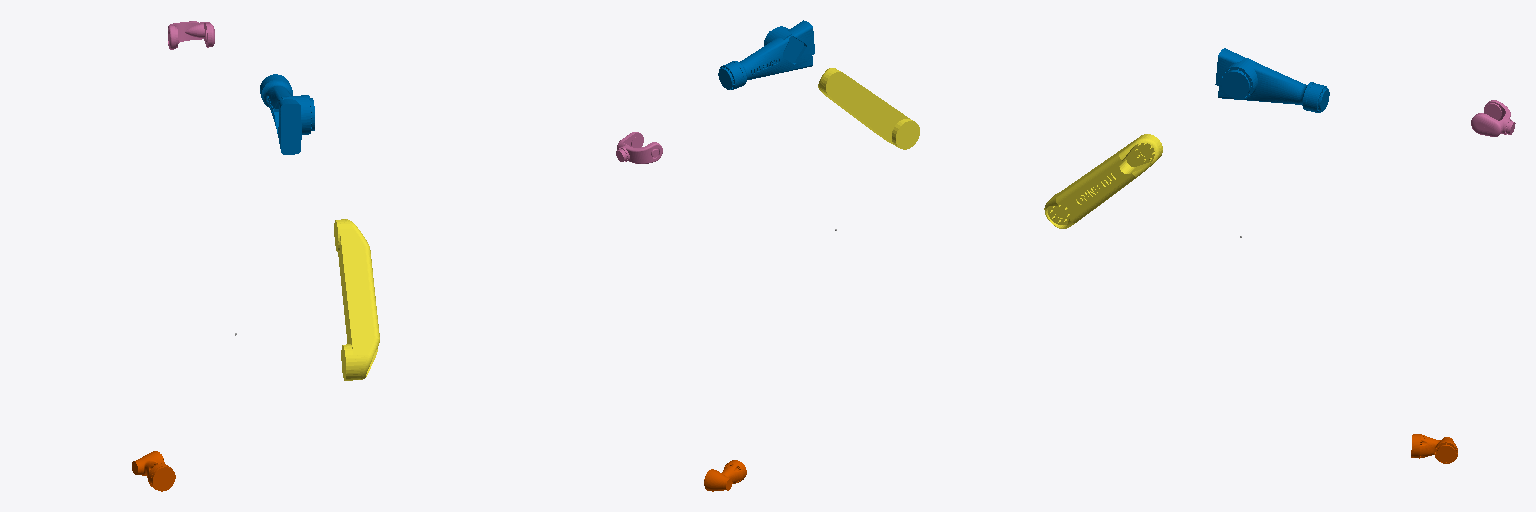
robot.urdf — phobos_robot_arm:
<?xml version="1.0"?>
<!-- =================================================================================== -->
<!-- |    This document was autogenerated by xacro from
[local-path]/rk_ws/install/rk_demo/share/rk_demo/urdf/robot_arm.urdf.xacro | -->
<!-- |    EDITING THIS FILE BY HAND IS NOT RECOMMENDED                                 | -->
<!-- =================================================================================== -->
<robot name="phobos_robot_arm" version="1.0">
    <link name="world" />
    <link name="base_link">
        <visual>
            <origin rpy="0 0 0" xyz="0 0 0" />
            <geometry>
                <mesh filename="package://rk_demo/meshes/1_base.STL" scale="1 1 1" />
            </geometry>
        </visual>
        <collision>
            <origin rpy="0 0 0" xyz="0 0 0" />
            <geometry>
                <mesh filename="package://rk_demo/meshes/1_base.STL" scale="1 1 1" />
            </geometry>
        </collision>
        <inertial>
            <mass value="2.0" />
            <origin rpy="0 0 0" xyz="0 0 0" />
            <inertia ixx="0.1" ixy="0" ixz="0" iyy="0.1" iyz="0" izz="0.1" />
        </inertial>
    </link>
    <joint name="world_to_base" type="fixed">
        <parent link="world" />
        <child link="base_link" />
        <origin rpy="0 0 0" xyz="0 0 0" />
    </joint>
    <link name="rotary_link">
        <visual>
            <origin rpy="0 0 0" xyz="0 0 0" />
            <geometry>
                <mesh filename="package://rk_demo/meshes/2_rotary_joint.STL" scale="1 1 1" />
            </geometry>
        </visual>
        <collision>
            <origin rpy="0 0 0" xyz="0 0 0" />
            <geometry>
                <mesh filename="package://rk_demo/meshes/2_rotary_joint.STL" scale="1 1 1" />
            </geometry>
        </collision>
        <inertial>
            <mass value="1.0" />
            <origin rpy="0 0 0" xyz="0 0 0" />
            <inertia ixx="0.01" ixy="0" ixz="0" iyy="0.01" iyz="0" izz="0.01" />
        </inertial>
    </link>
    <joint name="base_to_rotary" type="revolute">
        <limit effort="10.0" lower="-3.14" upper="3.14" velocity="1.0" />
        <origin rpy="0 0 0" xyz="0 0 0" />
        <parent link="base_link" />
        <child link="rotary_link" />
        <axis xyz="0 0 1" />
    </joint>
    <link name="lower_arm_link">
        <visual>
            <origin rpy="0 1.5708 0" xyz="0 0 0" />
            <geometry>
                <mesh filename="package://rk_demo/meshes/4_lower_arm.STL" scale="1 1 1" />
            </geometry>
        </visual>
        <collision>
            <origin rpy="0 0 0" xyz="0 0 0" />
            <geometry>
                <mesh filename="package://rk_demo/meshes/4_lower_arm.STL" scale="1 1 1" />
            </geometry>
        </collision>
        <inertial>
            <mass value="1.0" />
            <origin rpy="0 0 0" xyz="0 0 0" />
            <inertia ixx="0.01" ixy="0" ixz="0" iyy="0.01" iyz="0" izz="0.01" />
        </inertial>
    </link>
    <joint name="rotary_to_lower" type="revolute">
        <limit effort="10.0" lower="-3.14" upper="3.14" velocity="1.0" />
        <origin rpy="-0.17453 -1.57080 0.00000" xyz="0.06000 0.26000 0.64000" />
        <parent link="rotary_link" />
        <child link="lower_arm_link" />
        <axis xyz="0 0 1" />
    </joint>
    <link name="upper_arm_link">
        <visual>
            <origin rpy="0 1.5708 0" xyz="0 0 0" />
            <geometry>
                <mesh filename="package://rk_demo/meshes/5_upper_arm.STL" scale="1 1 1" />
            </geometry>
        </visual>
        <collision>
            <origin rpy="0 0 0" xyz="0 0 0" />
            <geometry>
                <mesh filename="package://rk_demo/meshes/5_upper_arm.STL" scale="1 1 1" />
            </geometry>
        </collision>
        <inertial>
            <mass value="1.0" />
            <origin rpy="0 0 0" xyz="0 0 0" />
            <inertia ixx="0.01" ixy="0" ixz="0" iyy="0.01" iyz="0" izz="0.01" />
        </inertial>
    </link>
    <joint name="lower_to_upper" type="revolute">
        <limit effort="10.0" lower="-3.14" upper="3.14" velocity="1.0" />
        <origin rpy="0 0 0" xyz="0.44000 0.48717 -0.05626" />
        <parent link="lower_arm_link" />
        <child link="upper_arm_link" />
        <axis xyz="0 0 1" />
    </joint>
    <link name="wrist_support_link">
        <visual>
            <origin rpy="3.14159 -1.5708 1.5708" xyz="0 0 0" />
            <geometry>
                <mesh filename="package://rk_demo/meshes/6_wrist_support.STL" scale="1 1 1" />
            </geometry>
        </visual>
        <collision>
            <origin rpy="0 0 0" xyz="0 0 0" />
            <geometry>
                <mesh filename="package://rk_demo/meshes/6_wrist_support.STL" scale="1 1 1" />
            </geometry>
        </collision>
        <inertial>
            <mass value="0.5" />
            <origin rpy="0 0 0" xyz="0 0 0" />
            <inertia ixx="0.005" ixy="0" ixz="0" iyy="0.005" iyz="0" izz="0.005" />
        </inertial>
    </link>
    <joint name="upper_to_support" type="revolute">
        <limit effort="10.0" lower="-3.14" upper="3.14" velocity="1.0" />
        <origin rpy="0.01066 0.08661 1.69343" xyz="-0.05000 0.52078 0.04106" />
        <parent link="upper_arm_link" />
        <child link="wrist_support_link" />
        <axis xyz="0.99714 0 0.07554" />
    </joint>
    <link name="wrist_link">
        <visual>
            <origin rpy="0 0 0" xyz="0 0 0" />
            <geometry>
                <mesh filename="package://rk_demo/meshes/7_wrist.STL" scale="1 1 1" />
            </geometry>
        </visual>
        <collision>
            <origin rpy="0 0 0" xyz="0 0 0" />
            <geometry>
                <mesh filename="package://rk_demo/meshes/7_wrist.STL" scale="1 1 1" />
            </geometry>
        </collision>
        <inertial>
            <mass value="0.5" />
            <origin rpy="0 0 0" xyz="0 0 0" />
            <inertia ixx="0.005" ixy="0" ixz="0" iyy="0.005" iyz="0" izz="0.005" />
        </inertial>
    </link>
    <joint name="support_to_wrist" type="revolute">
        <limit effort="10.0" lower="-3.14" upper="3.14" velocity="1.0" />
        <origin rpy="1.57080 1.48353 -0.12217" xyz="0.16404 0.00001 0.12645" />
        <parent link="wrist_support_link" />
        <child link="wrist_link" />
        <axis xyz="0.99714 0 0.07554" />
    </joint>
    <link name="end_effector">
        <visual>
            <origin rpy="0 0 0" xyz="0 0 0" />
            <geometry>
                <box size="0.01 0.01 0.01" />
            </geometry>
        </visual>
    </link>
    <joint name="wrist_to_end" type="fixed">
        <parent link="wrist_link" />
        <child link="end_effector" />
        <origin rpy="0 0 0" xyz="0 0 0.05" />
    </joint>
</robot>

--- Render facts (derived) ---
The picture shows the robot from 3 angles, left to right: view 1: azimuth 30°, elevation 25°; view 2: azimuth 150°, elevation 25°; view 3: azimuth 270°, elevation 25°; orthographic projection.
Model phobos_robot_arm with 8 links and 7 joints (5 revolute, 2 fixed), rooted at world, posed every joint at zero.
Visible links, largest first — view 1: lower_arm_link, upper_arm_link, wrist_support_link, wrist_link; view 2: lower_arm_link, upper_arm_link, wrist_link, wrist_support_link; view 3: lower_arm_link, upper_arm_link, wrist_link, wrist_support_link.
Boxes of the visible links, x1,y1,x2,y2 form: lower_arm_link: [334, 219, 379, 380]; upper_arm_link: [260, 74, 314, 154]; wrist_support_link: [132, 451, 175, 491]; wrist_link: [168, 21, 214, 49]; lower_arm_link: [818, 68, 919, 149]; upper_arm_link: [718, 20, 814, 89]; wrist_link: [616, 132, 662, 163]; wrist_support_link: [704, 460, 746, 491]; lower_arm_link: [1044, 134, 1162, 228]; upper_arm_link: [1215, 48, 1329, 112]; wrist_link: [1471, 100, 1515, 136]; wrist_support_link: [1411, 434, 1457, 463].
Bounding box of the posed robot: 0.67 × 2.57 × 2.51 m (x, y, z).
Meshes: 6 distinct files referenced, 4 mesh visuals loaded (4 binary STL); not drawn: 2 (reference not matched to a file when rendering).
